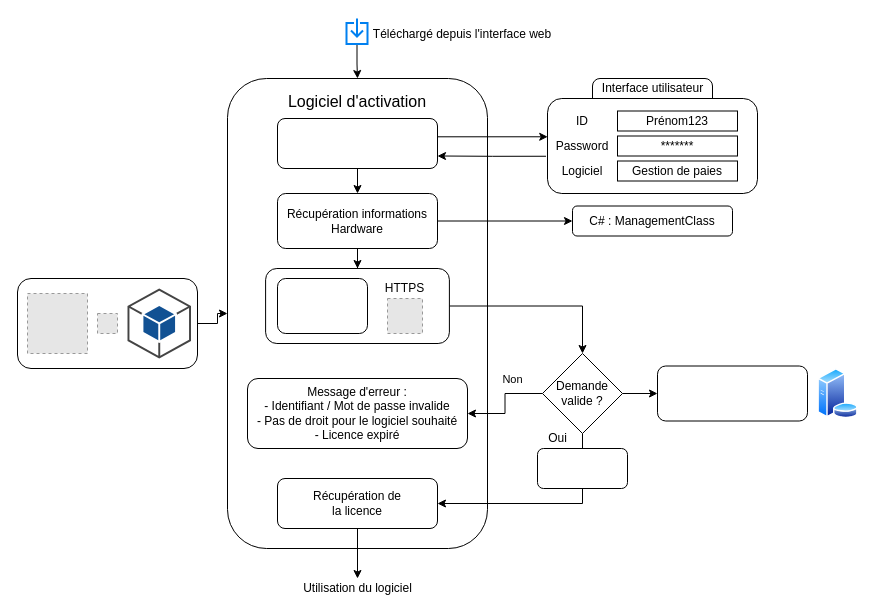
Some shapes in this 876 by 615 pixel diagram are drawn without their labels. Grey dashed boxes stand in for pictures. The shapes that lost their labels are listed below. From the top down, each one's centre as x and y in pixels, then its label:
At [357,143]: "Récupérations informations utilisateurs".
At [322,306]: "Envoi de la requête au serveur".
At [732,393]: "Vérifiaction dans la BDD : - Identifians valides - Droit pour la licence".
At [582,468]: "Génération de licence".
